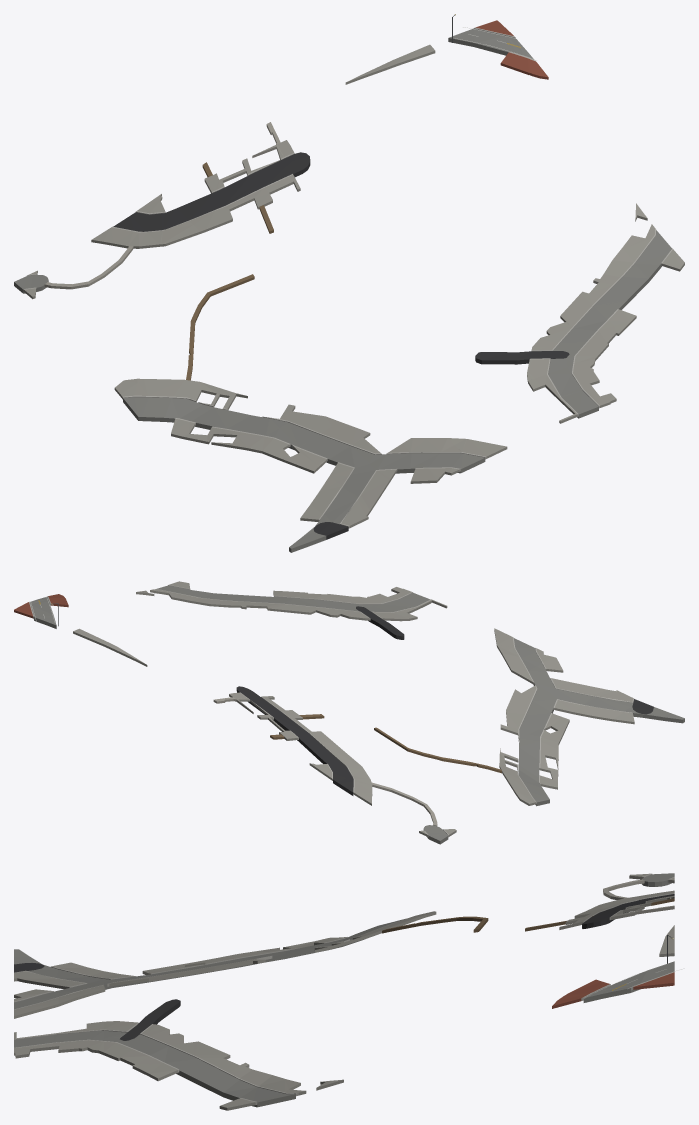
The picture shows the model from 3 angles, top to bottom: view 1: azimuth 30°, elevation 25°; view 2: azimuth 150°, elevation 25°; view 3: azimuth 270°, elevation 25°; orthographic projection. The views are drawn at different scales.
Size of the model in its own units: 147 by 66.37 by 148.
